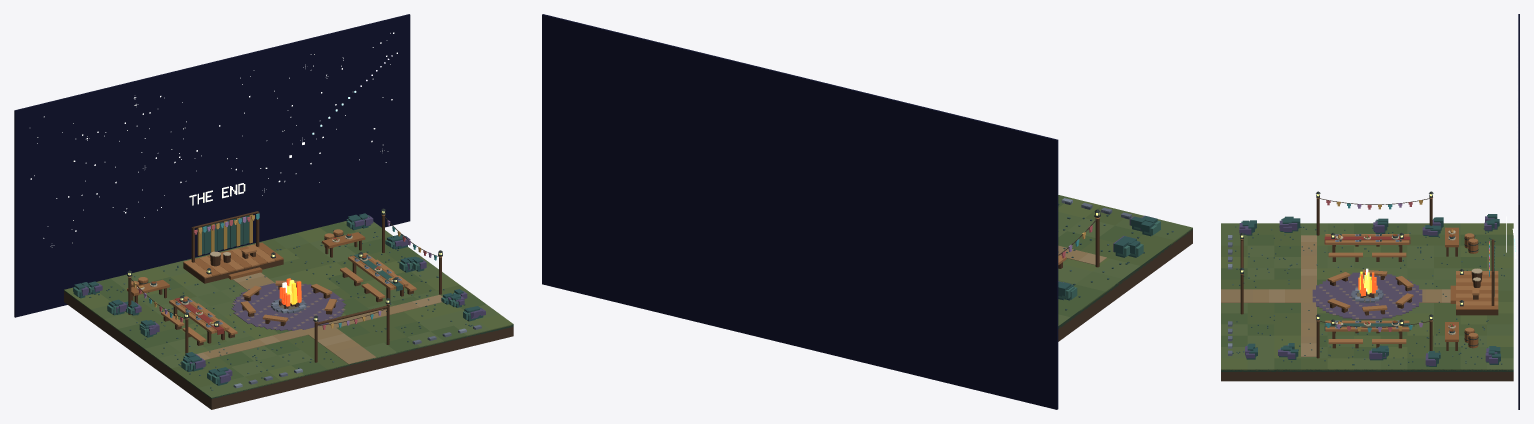
Rendered from campfire-plaza.glb.
3 views of the same model, side by side, from view 1: azimuth 30°, elevation 25°; view 2: azimuth 150°, elevation 25°; view 3: azimuth 270°, elevation 25° (orthographic). The views are drawn at different scales.
Visible parts, largest first — view 1: sky, ground, decor, stage, banquet, seating, hearth, flames; view 2: sky, ground, decor; view 3: ground, decor, banquet, stage, seating, sky, hearth, flames, food, lanterns.
Boxes of the visible parts, box(x1,y1,x2,y2) form: sky: box(14, 14, 410, 317); ground: box(64, 221, 513, 409); decor: box(73, 213, 485, 385); stage: box(183, 211, 283, 283); banquet: box(127, 229, 408, 343); seating: box(161, 259, 416, 345); hearth: box(175, 256, 481, 388); flames: box(279, 278, 301, 306); sky: box(542, 14, 1058, 409); ground: box(1058, 195, 1192, 341); decor: box(1058, 215, 1160, 300); ground: box(1221, 223, 1513, 381); decor: box(1239, 197, 1500, 366); banquet: box(1324, 227, 1478, 350); stage: box(1450, 239, 1498, 315); seating: box(1327, 245, 1413, 348); sky: box(1517, 14, 1519, 409); hearth: box(1228, 234, 1399, 355); flames: box(1358, 268, 1377, 296); food: box(1335, 229, 1455, 334); lanterns: box(1239, 191, 1464, 325).
Size of the model in its own units: 34 by 17 by 22.46.
